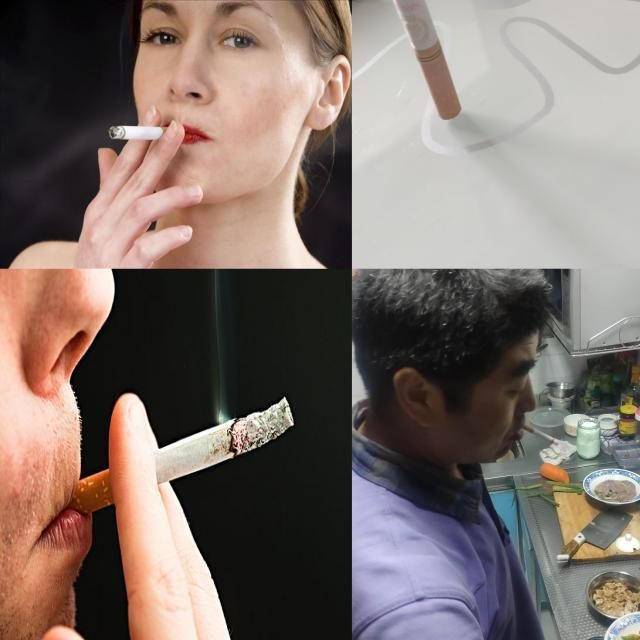smoke: (67, 394, 296, 518), (351, 0, 462, 120), (108, 124, 176, 142), (522, 424, 558, 446)
